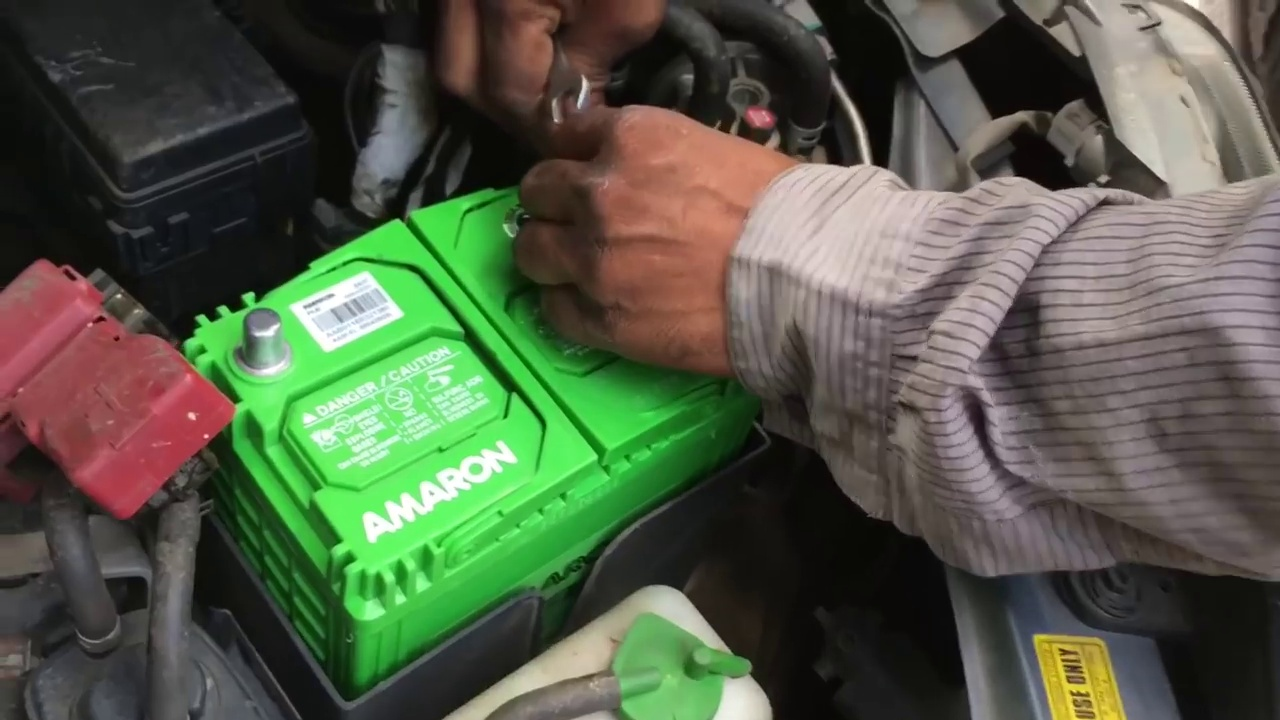battery: (180, 156, 760, 595)
pos_disconnected: (44, 278, 326, 452)
